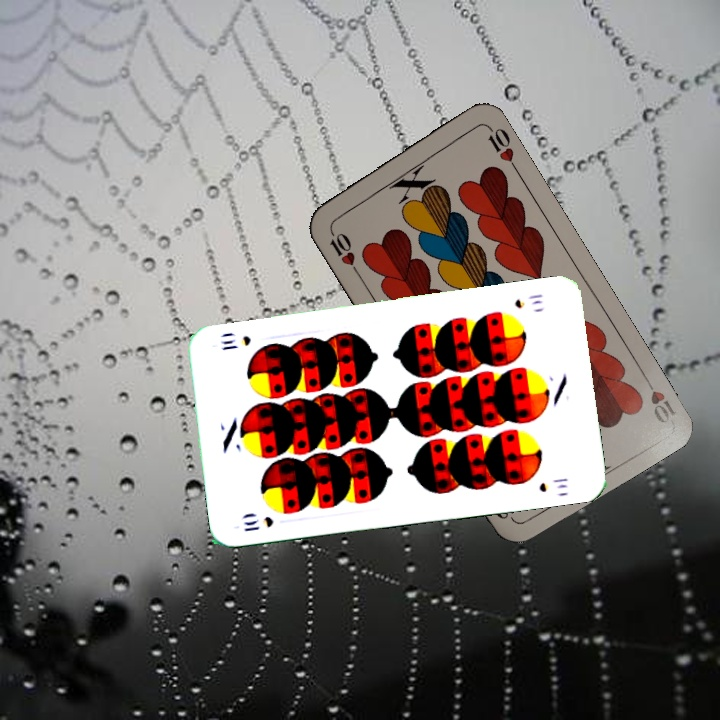H10: (639, 370, 679, 428), (325, 223, 362, 276)
S10: (240, 512, 276, 534), (511, 290, 545, 311)
